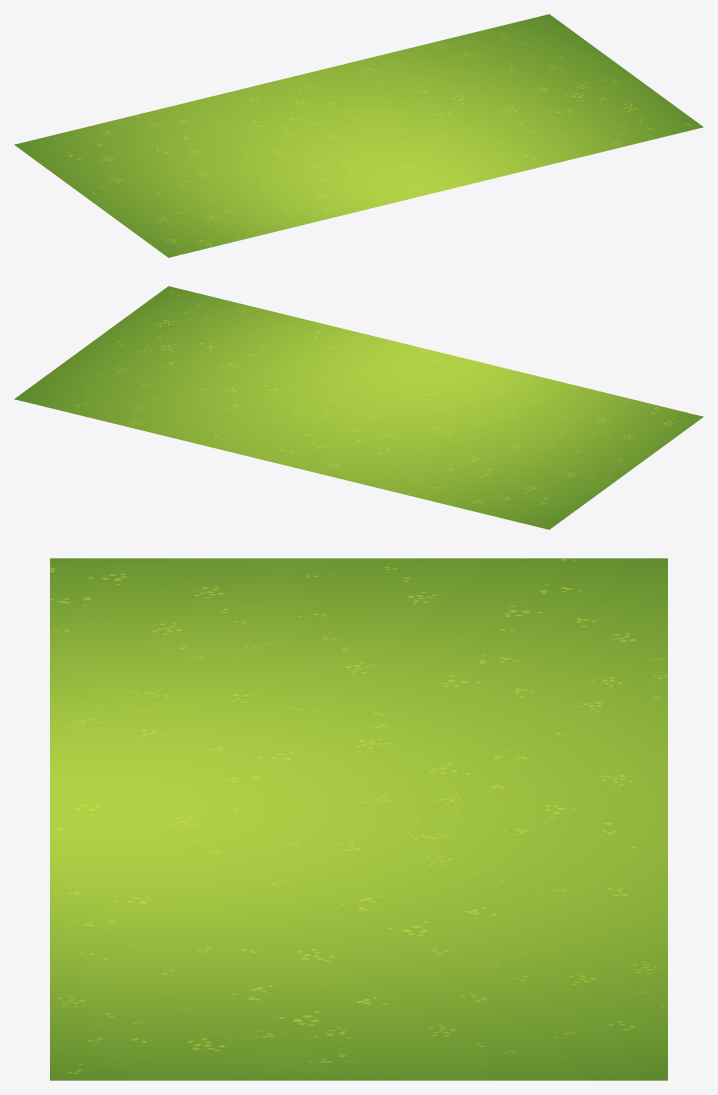
The model's file is floor.obj.
The picture shows the model from 3 angles, top to bottom: view 1: azimuth 30°, elevation 25°; view 2: azimuth 150°, elevation 25°; view 3: azimuth 270°, elevation 25°; orthographic projection. The views are drawn at different scales.
Parts seen in each view (by area): view 1: Floor; view 2: Floor; view 3: Floor.
Part boxes in pixels (left/top/right/bottom): Floor: left=14, top=14, right=703, bottom=257; Floor: left=14, top=286, right=703, bottom=529; Floor: left=50, top=558, right=667, bottom=1080.
Bounding box in the file's own units: 40 × 0 × 20.
1 material, 1 textured.
